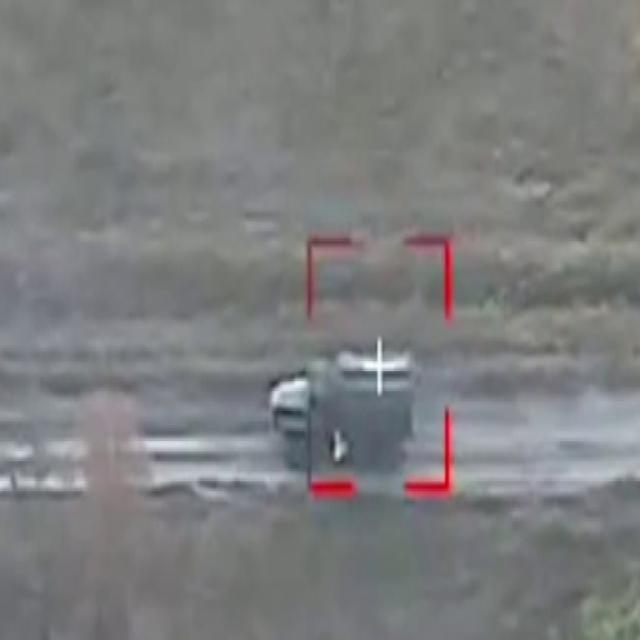TRUCK: (268, 348, 418, 466)
